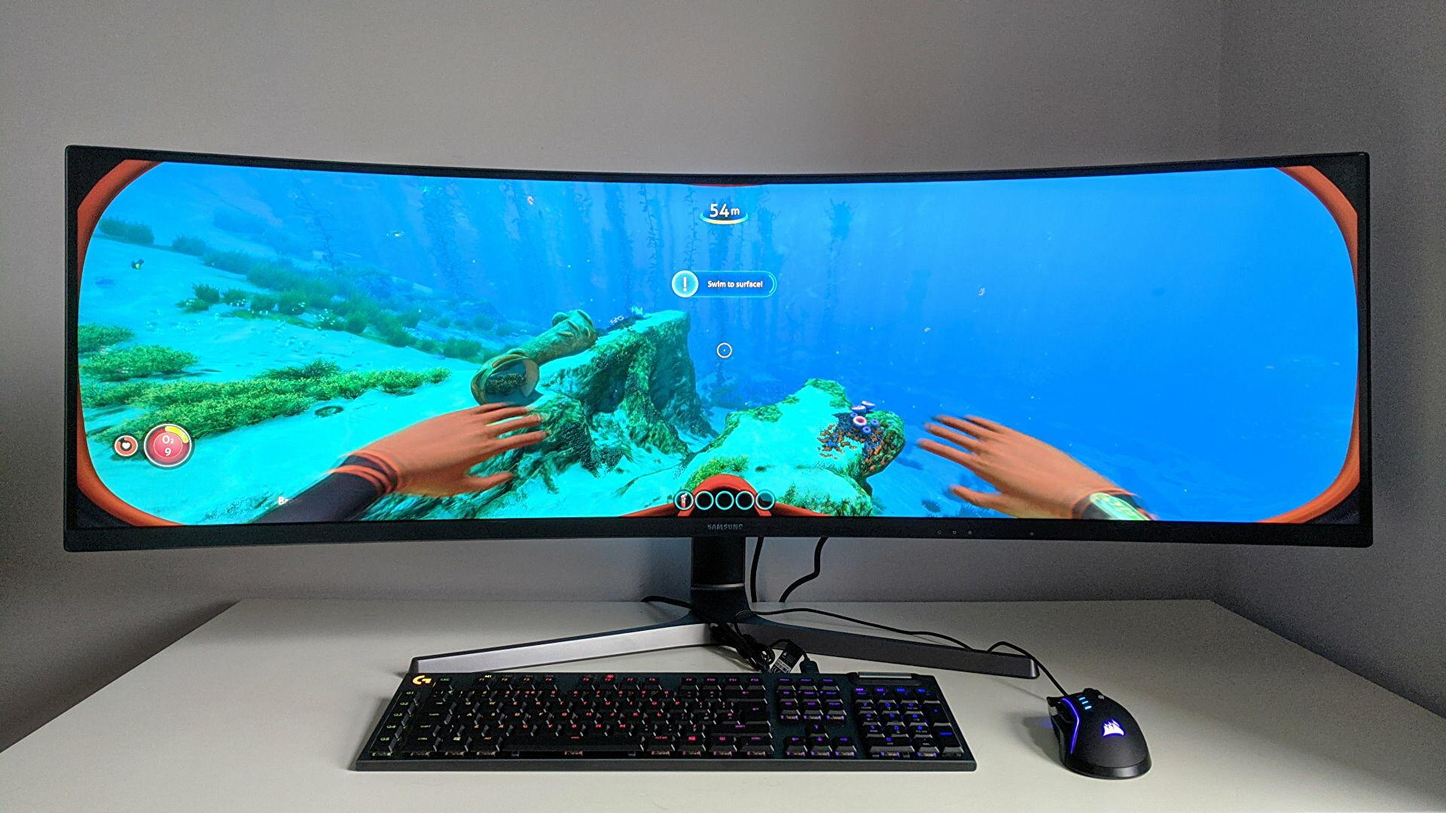monitor: (59, 142, 1375, 550)
